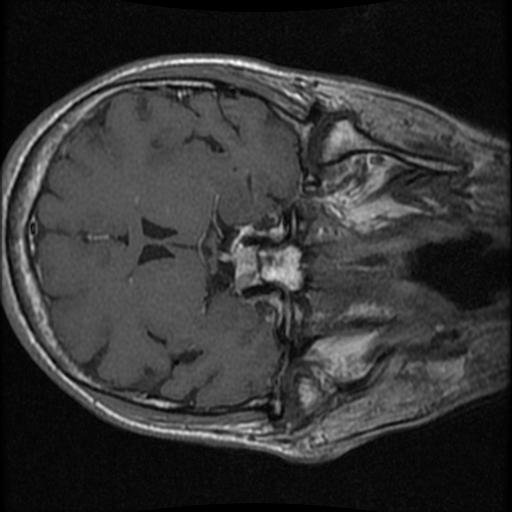pituitary tumour: (232, 245, 257, 285)
